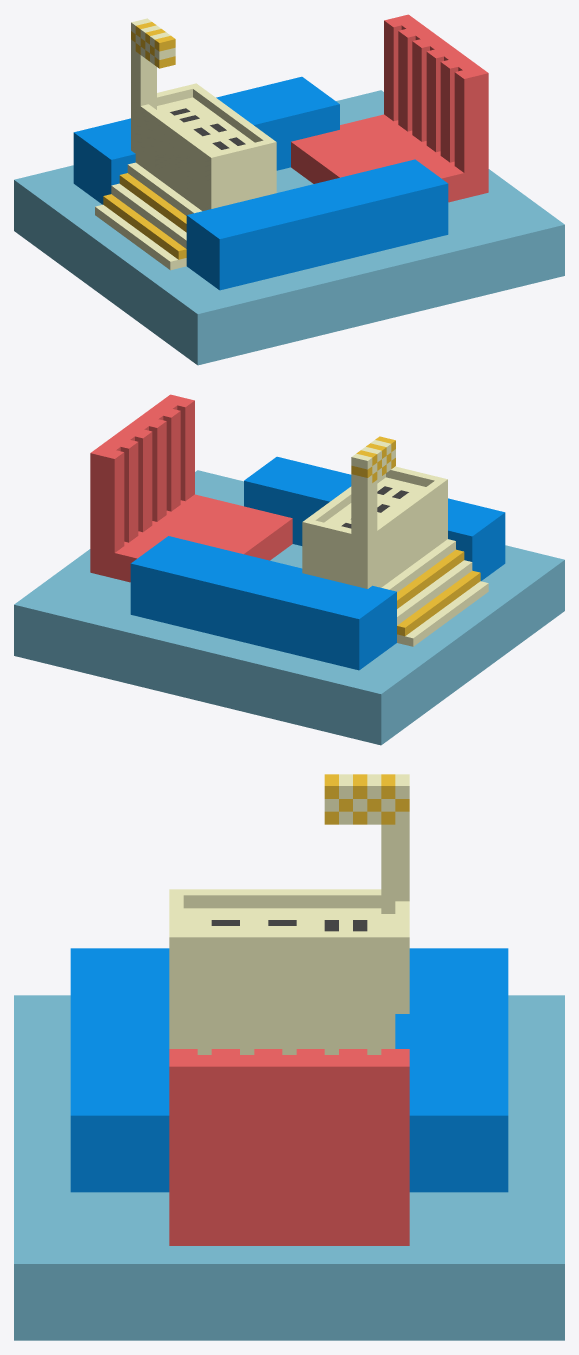
Rendered from timemachine.obj.
3 views of the same model, one above another, from view 1: azimuth 30°, elevation 25°; view 2: azimuth 150°, elevation 25°; view 3: azimuth 270°, elevation 25° (orthographic). The views are drawn at different scales.
Size of the model in its own units: 45 by 27 by 39.
